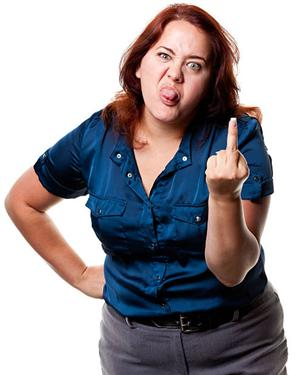insulting_gesture: (204, 116, 252, 206)
